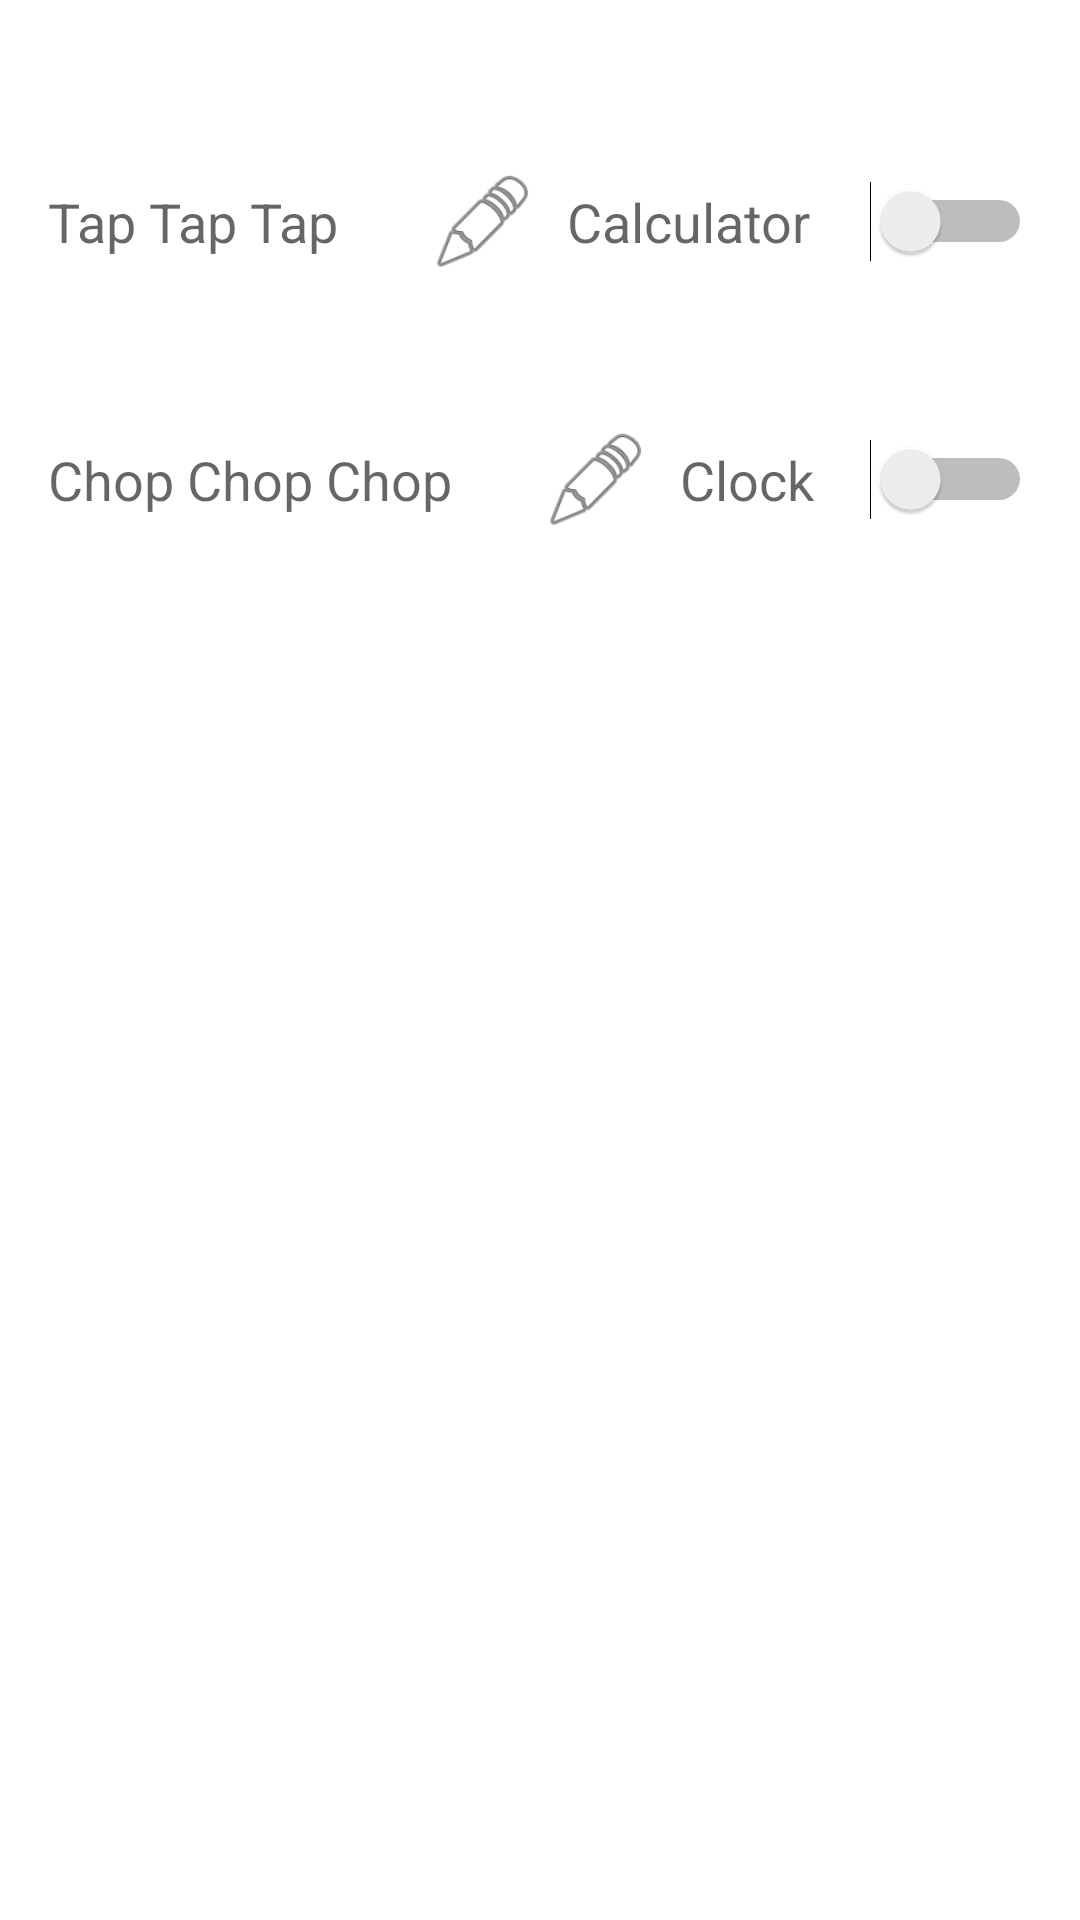

Screen size 1080px×1920px. Icon name, then its center in pixels as (x,y):
edit: (482,221), (595,479)
